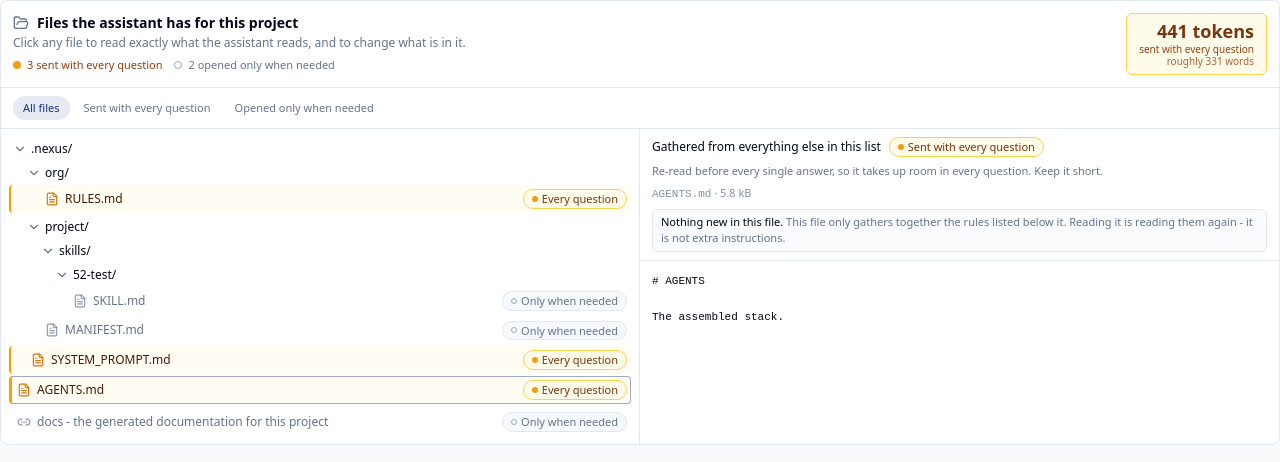
Test case: WorkspaceTree › names where a generated file came from without naming the machinery
Click the button "RULES.md Every question" at (94, 198), box x1=9 y1=185 x2=631 y2=213
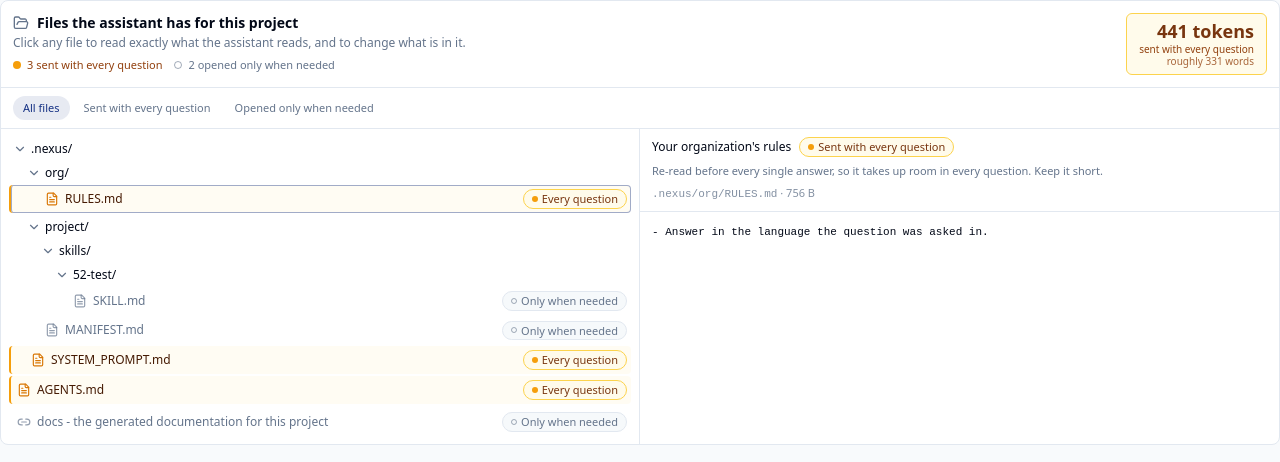
Now the text with test id "workspace-viewer-origin" reads "Your organization's rules", box x1=652 y1=138 x2=791 y2=155
